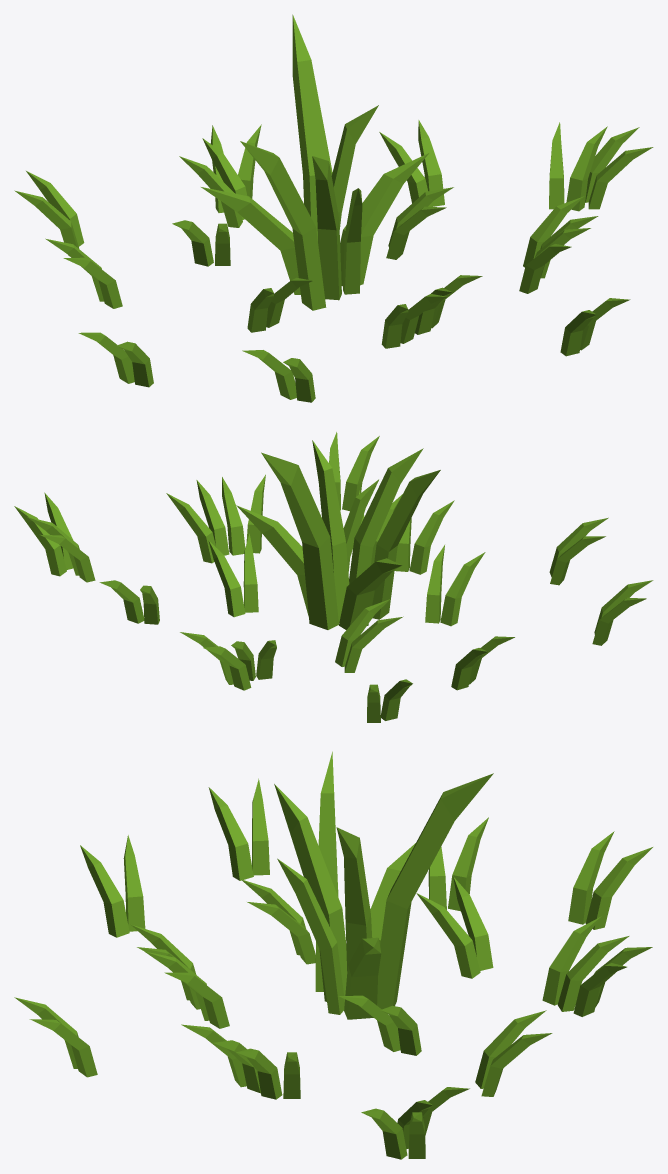
Rendered from SM_Grass_01.fbx.
3 views of the same model, one above another, from view 1: azimuth 30°, elevation 25°; view 2: azimuth 150°, elevation 25°; view 3: azimuth 270°, elevation 25° (orthographic). The views are drawn at different scales.
Visible parts, largest first — view 1: SM_Grass_01; view 2: SM_Grass_01; view 3: SM_Grass_01.
Part boxes in pixels (<box>): SM_Grass_01: <box>14,14,653,402</box>; SM_Grass_01: <box>14,432,653,722</box>; SM_Grass_01: <box>14,751,652,1159</box>.
Bounding box in the file's own units: 206 × 69.13 × 164.
1 material, 1 textured.
